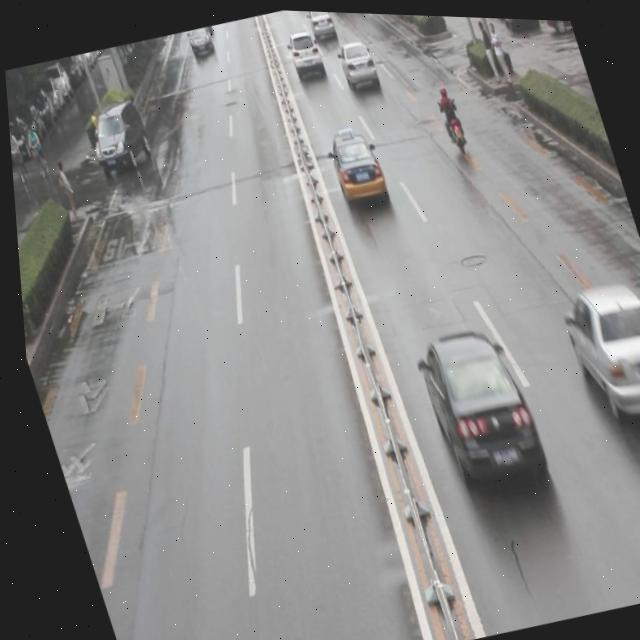car: (403, 315, 546, 500), (549, 268, 640, 437), (316, 120, 389, 210), (331, 35, 381, 92), (282, 28, 326, 81)
truck: (82, 100, 155, 173)
